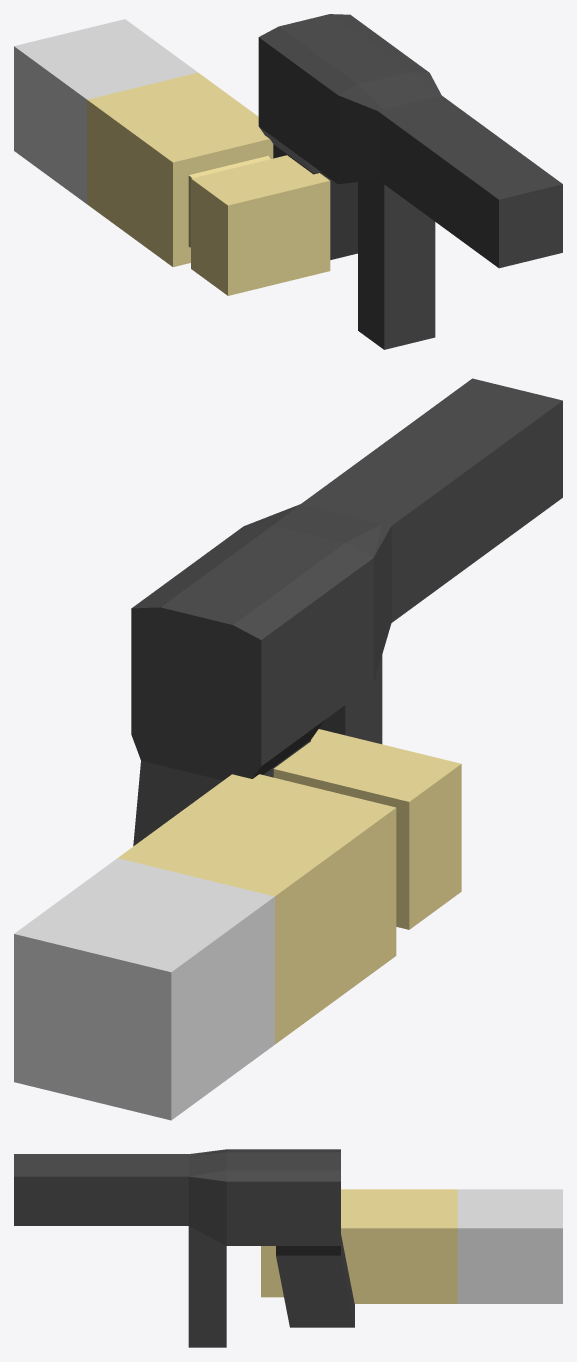
Rendered from uzi.obj.
3 views of the same model, one above another, from view 1: azimuth 30°, elevation 25°; view 2: azimuth 150°, elevation 25°; view 3: azimuth 270°, elevation 25° (orthographic). The views are drawn at different scales.
Visible parts, largest first — view 1: cube3, cube5; view 2: cube5, cube3; view 3: cube3, cube5.
Boxes of the visible parts, x1,y1,x2,y2 form: cube3: (258,14,562,349); cube5: (14,19,330,295); cube5: (14,729,461,1120); cube3: (131,378,562,846); cube3: (14,1149,354,1347); cube5: (261,1189,562,1303).
Bounding box in the file's own units: 13.12 × 16.93 × 47.46.
3 materials, 3 textured.
